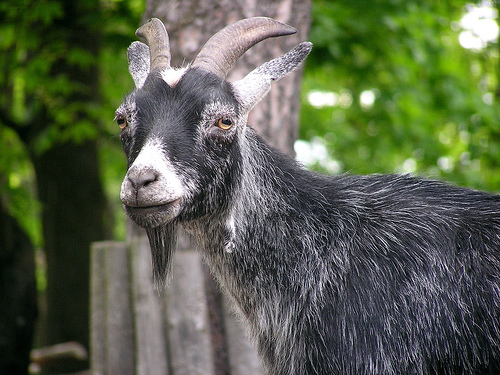goat: (113, 16, 500, 374)
